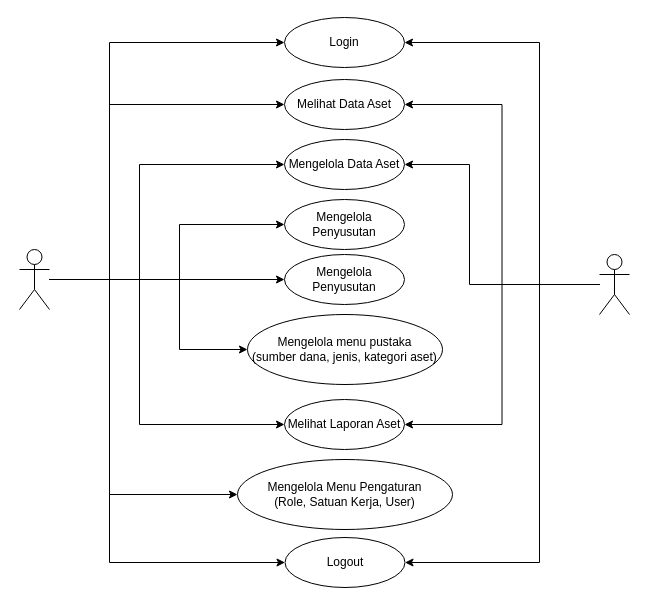
Image size: 647x605. Some labels were removed from this diagram. Each missing label, with the centre of its shape:
"Admin" belongs at point 34,279.
"User" belongs at point 614,284.
